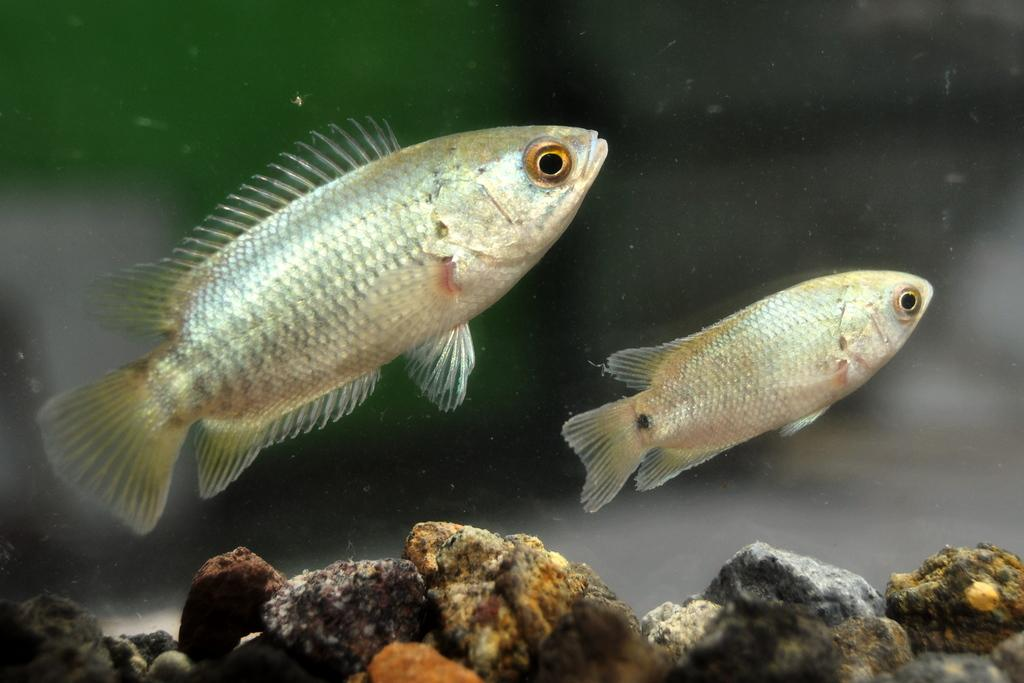Climbing Perch: (49, 105, 610, 540), (566, 268, 937, 512)
